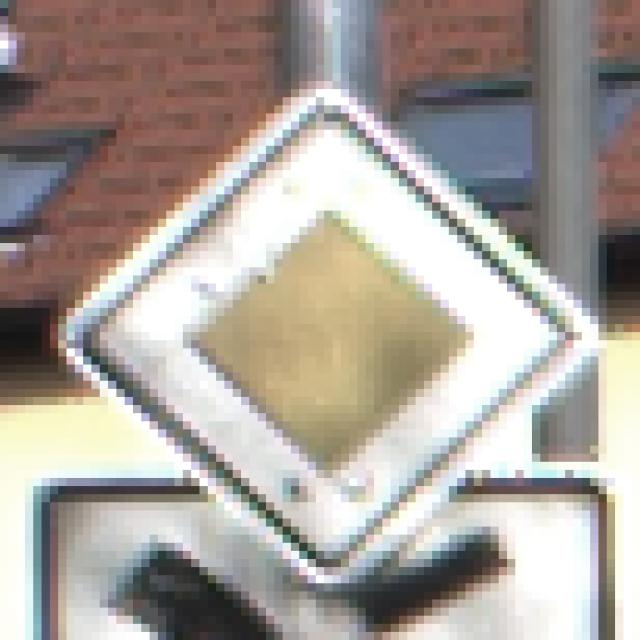Main Road: (59, 58, 591, 584)
